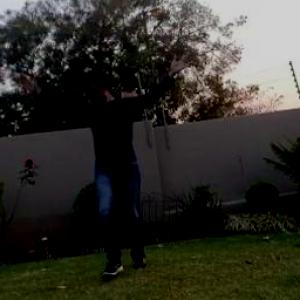takeoff: (15, 58, 189, 280)
